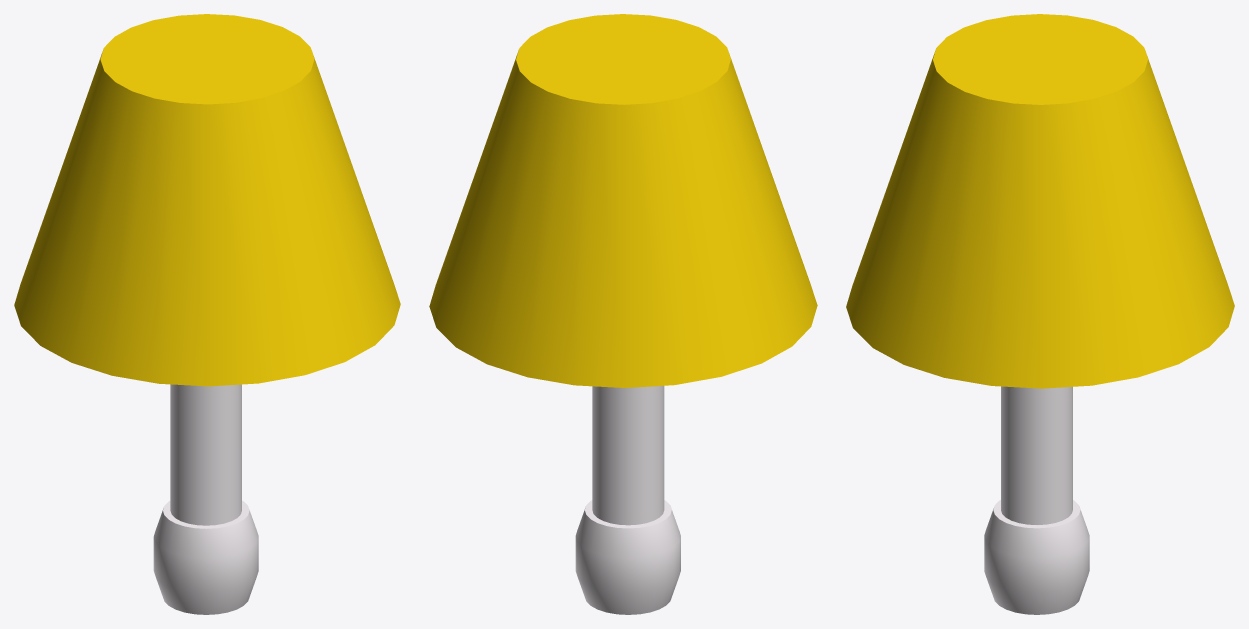
File: 3 lamp.fbx
The picture shows the model from 3 angles, left to right: view 1: azimuth 30°, elevation 25°; view 2: azimuth 150°, elevation 25°; view 3: azimuth 270°, elevation 25°; orthographic projection.
Parts seen in each view (by area): view 1: 3 lamp; view 2: 3 lamp; view 3: 3 lamp.
Boxes of the visible parts, bbox=[...] form: 3 lamp: bbox=[14, 14, 400, 614]; 3 lamp: bbox=[429, 14, 817, 614]; 3 lamp: bbox=[846, 14, 1234, 614].
Size of the model in its own units: 23.3 by 35.6 by 23.3.
